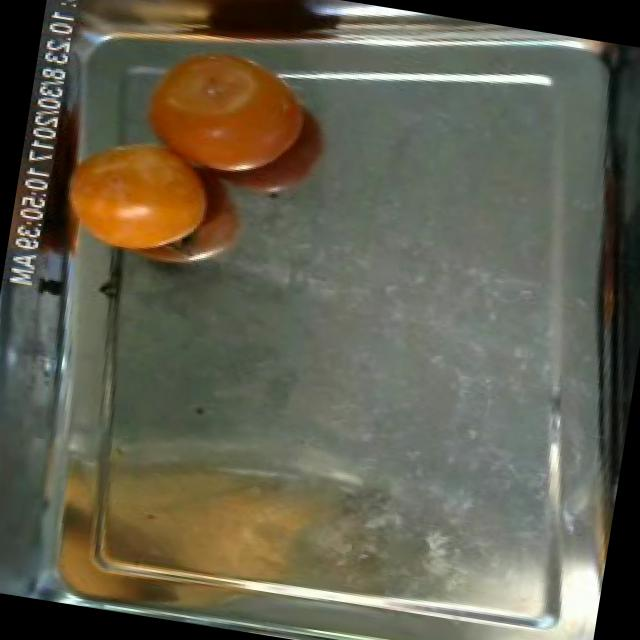Fruit: (112, 28, 341, 208), (39, 113, 235, 269)
